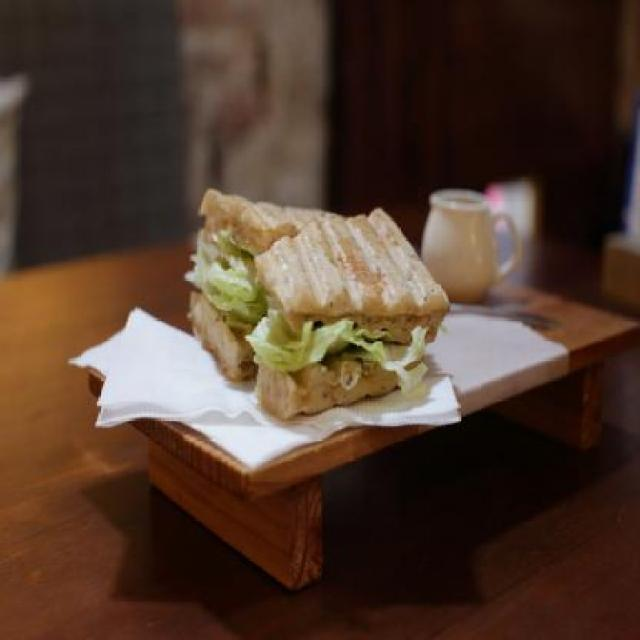Sandwich: (190, 186, 456, 414)
